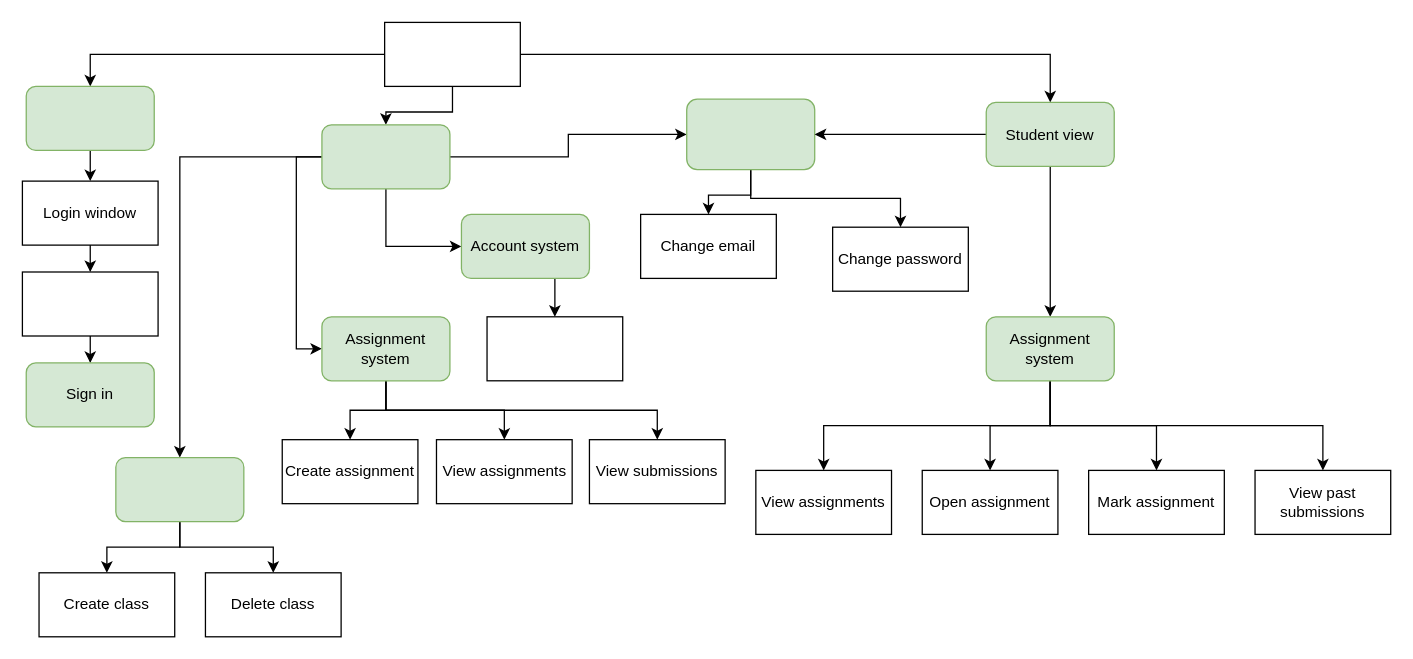
The diagram is 1413 pixels wide and 659 high, and some of its shapes have lost their labels. The shapes that lost their labels are listed below. From the top down, each one's centre as x and y in pixels, then its label:
At (x=451, y=53): "The Physics Lab".
At (x=89, y=117): "Login system".
At (x=750, y=134): "Settings".
At (x=385, y=156): "Admin view".
At (x=89, y=303): "2FA window".
At (x=554, y=348): "Create student account".
At (x=179, y=489): "Class system".
